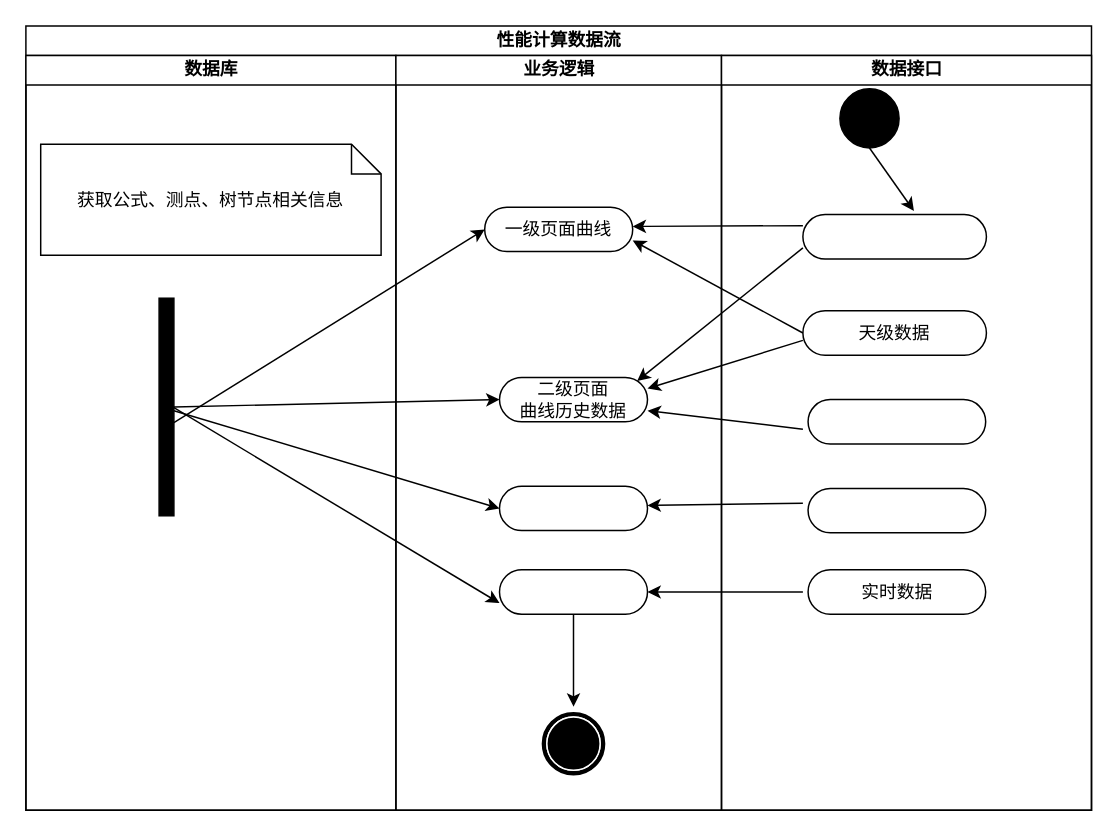
Some shapes in this 1117 by 836 pixel diagram are drawn without their labels. The shapes that lost their labels are listed below. From the top down, each one's centre as x and y in pixels, then its label:
At point 893,236: "秒级数据".
At point 896,421: "获取公式".
At point 573,508: "模拟修改公式".
At point 896,510: "获取计算后仿真值".
At point 573,591: "右侧实时数据".
